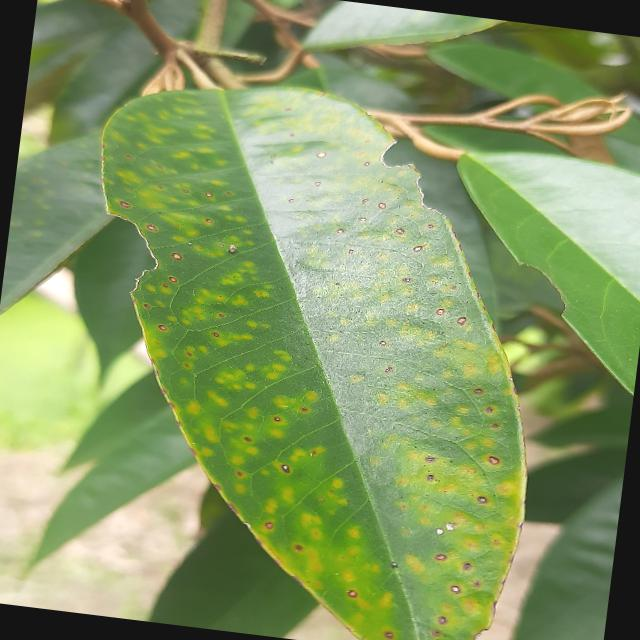Leaf Spot: (32, 48, 588, 639)
